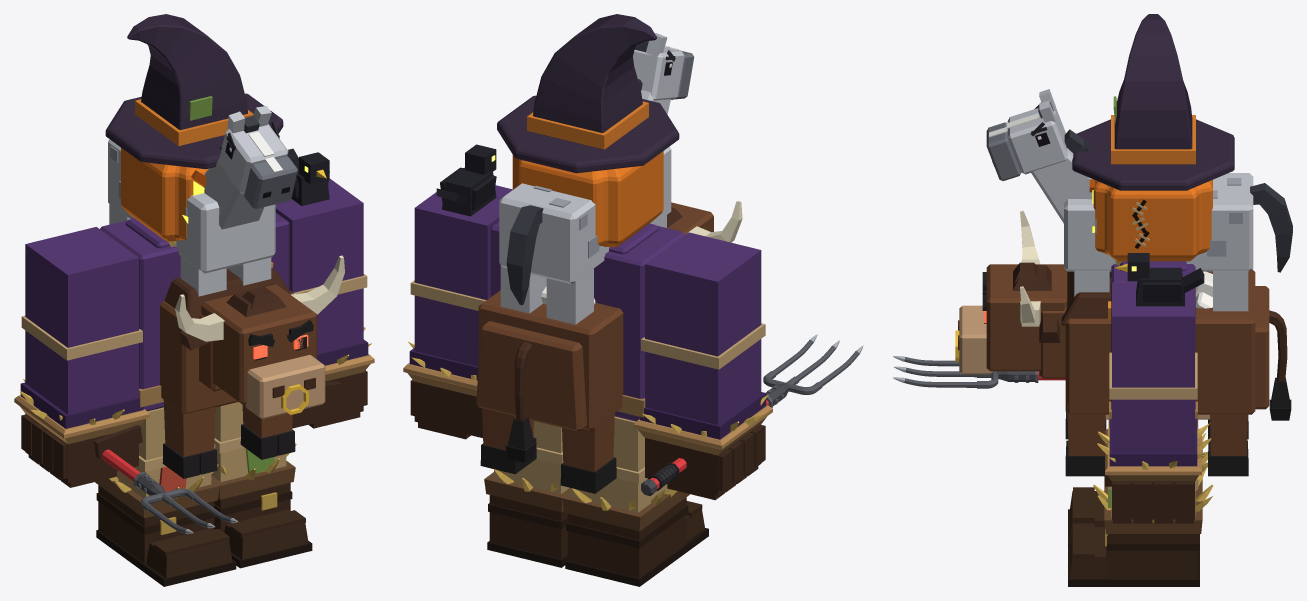
The model's file is w1_enemies.fbx.
3 views of the same model, side by side, from view 1: azimuth 30°, elevation 25°; view 2: azimuth 150°, elevation 25°; view 3: azimuth 270°, elevation 25° (orthographic). The views are drawn at different scales.
Visible parts, largest first — view 1: ScarecrowKing.Hat, ScarecrowKing.RightArm, ScarecrowKing.LeftArm, Bull.Head, ScarecrowKing.RightLowerArm, ScarecrowKing.Torso, ScarecrowKing.RightBoot, Stallion.Torso, ScarecrowKing.Head, ScarecrowKing.RightGlove, Bull.Torso, ScarecrowKing.LeftBoot (+36 smaller); view 2: ScarecrowKing.Hat, Bull.Torso, ScarecrowKing.RightArm, ScarecrowKing.LeftArm, Stallion.Torso, ScarecrowKing.Head, ScarecrowKing.Torso, ScarecrowKing.RightLowerArm, ScarecrowKing.RightBoot, ScarecrowKing.RightGlove, ScarecrowKing.LeftLowerArm, ScarecrowKing.LeftBoot (+32 smaller); view 3: ScarecrowKing.Hat, Bull.Torso, ScarecrowKing.Head, ScarecrowKing.LeftArm, Stallion.Torso, Bull.Head, ScarecrowKing.LeftBoot, Stallion.Head, ScarecrowKing.LeftLowerArm, ScarecrowKing.LeftGlove, ScarecrowKing.Crow, Bull.TorsoDark (+25 smaller).
Part boxes in pixels (x1,y1,x2,y2): ScarecrowKing.Hat: (105,14,283,169); ScarecrowKing.RightArm: (25,227,138,347); ScarecrowKing.LeftArm: (275,178,363,292); Bull.Head: (201,284,317,404); ScarecrowKing.RightLowerArm: (25,330,138,414); ScarecrowKing.Torso: (100,213,289,411); ScarecrowKing.RightBoot: (98,485,232,578); Stallion.Torso: (108,139,275,273); ScarecrowKing.Head: (121,148,208,241); ScarecrowKing.RightGlove: (21,413,142,487); Bull.Torso: (160,290,293,413); ScarecrowKing.LeftBoot: (214,482,308,559); ScarecrowKing.Hat: (497,14,679,173); Bull.Torso: (476,290,623,431); ScarecrowKing.RightArm: (645,232,761,356); ScarecrowKing.LeftArm: (414,185,512,300); Stallion.Torso: (499,146,671,284); ScarecrowKing.Head: (512,151,663,247); ScarecrowKing.Torso: (490,222,684,421); ScarecrowKing.RightLowerArm: (645,339,761,424); ScarecrowKing.RightBoot: (567,497,704,578); ScarecrowKing.RightGlove: (645,424,765,500); ScarecrowKing.LeftLowerArm: (414,295,478,366); ScarecrowKing.LeftBoot: (489,495,567,559); ScarecrowKing.Hat: (1072,14,1234,190); Bull.Torso: (1039,269,1269,414); ScarecrowKing.Head: (1093,179,1212,261); ScarecrowKing.LeftArm: (1112,282,1194,387); Stallion.Torso: (1064,173,1253,271); Bull.Head: (986,264,1067,371); ScarecrowKing.LeftBoot: (1069,523,1198,579); Stallion.Head: (1007,108,1092,223); ScarecrowKing.LeftLowerArm: (1112,399,1194,452); ScarecrowKing.LeftGlove: (1105,475,1194,523); ScarecrowKing.Crow: (1127,253,1204,306); Bull.TorsoDark: (1061,271,1287,381).
Size of the model in its own units: 10.72 by 16.11 by 11.42.
